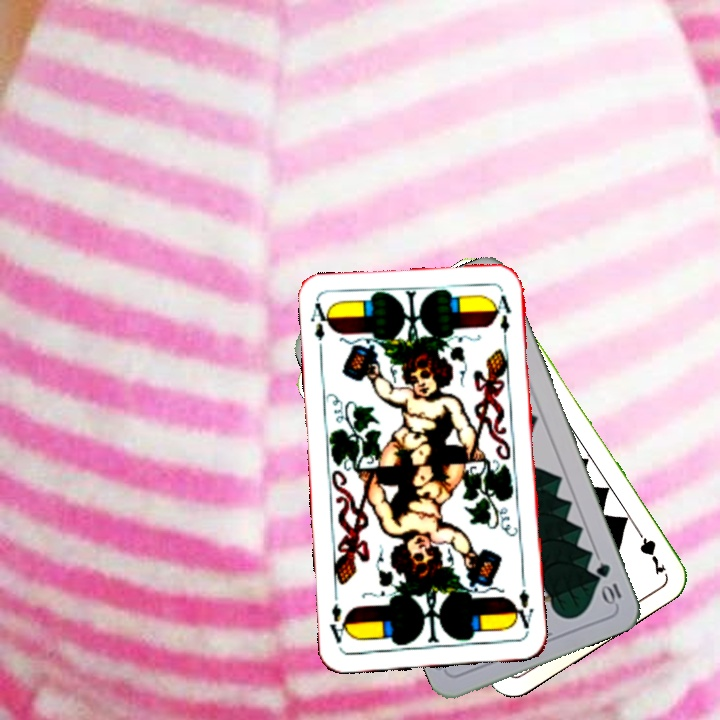EA: (306, 298, 334, 357), (509, 577, 536, 636)
G10: (592, 559, 624, 607)
G7: (630, 522, 669, 578)
